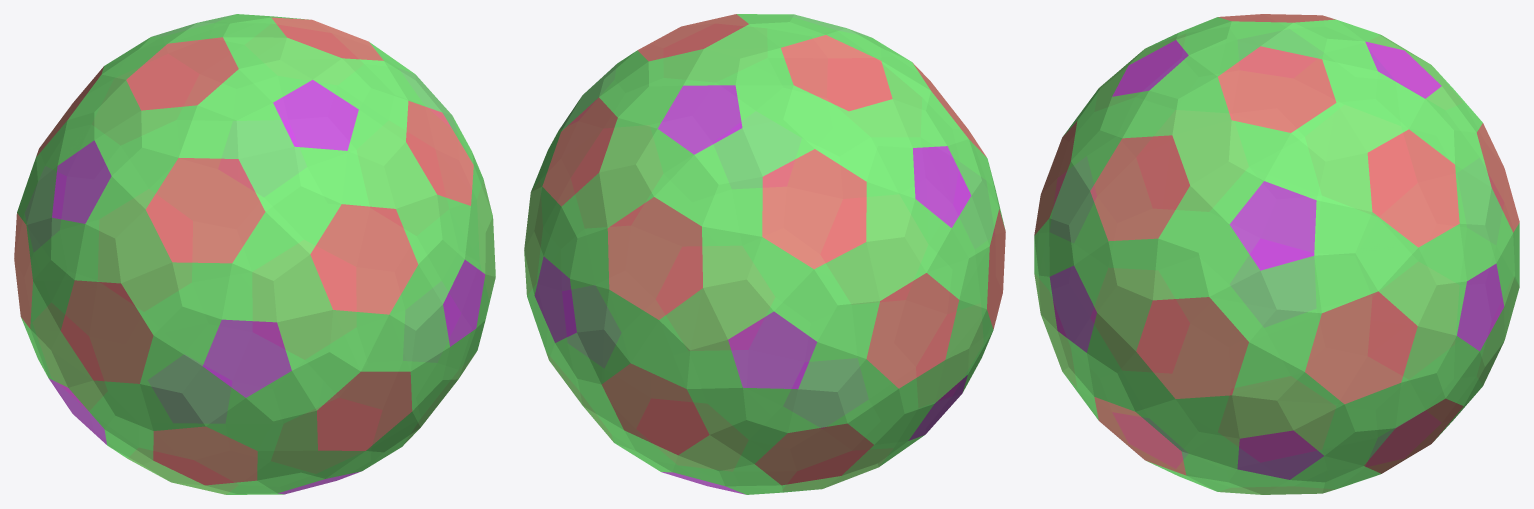
Rendered from PropellorTruncatedIcosahedron.obj.
3 renders of one model, left to right at view 1: azimuth 30°, elevation 25°; view 2: azimuth 150°, elevation 25°; view 3: azimuth 270°, elevation 25°, orthographic.
Bounding box in the file's own units: 2 × 2 × 2.
